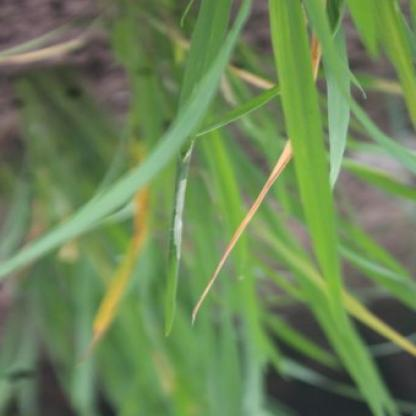Tungro: (84, 181, 167, 338)
